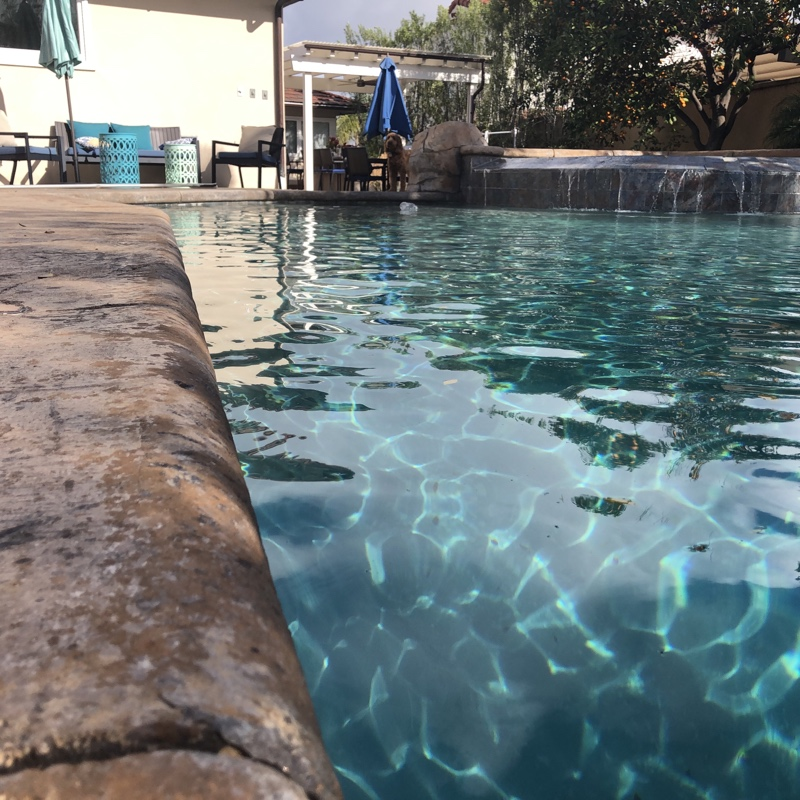Plastic Bottle: (399, 199, 419, 214)
